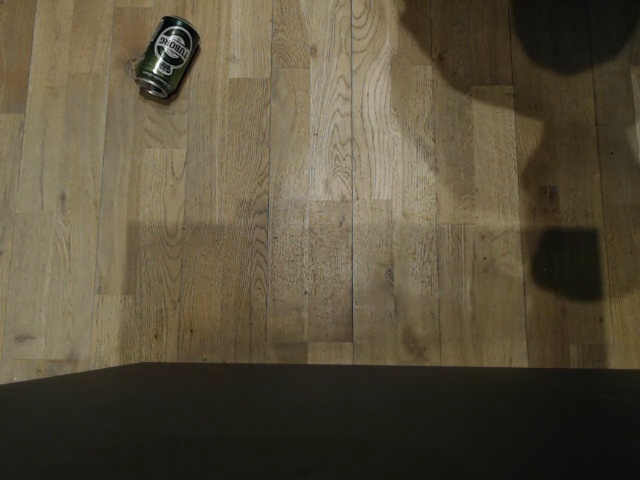beer: (132, 14, 203, 102)
